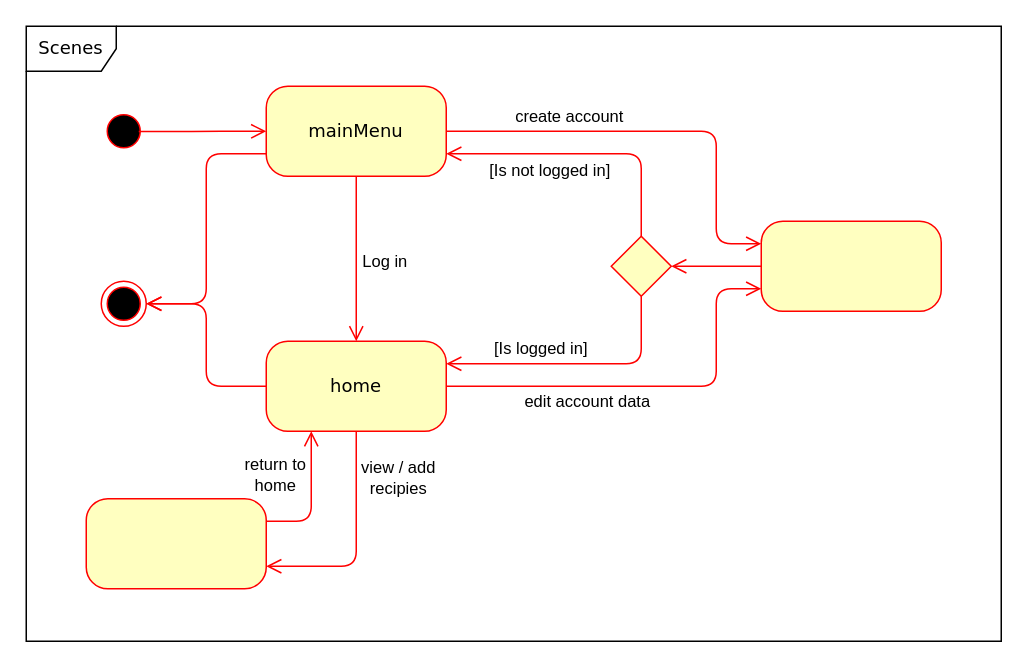
This 1028x668 diagram has some shape labels left out. Each missing label, with the box of its shape:
account: (760, 220, 941, 311)
recipies: (85, 497, 266, 589)
